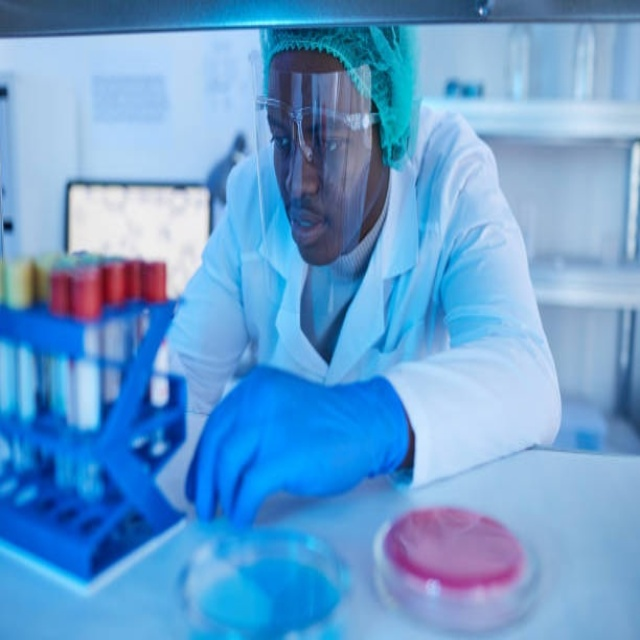Gafas: (254, 96, 382, 166)
Guantes: (187, 366, 409, 533)
Sin_mascara: (283, 193, 342, 270)
